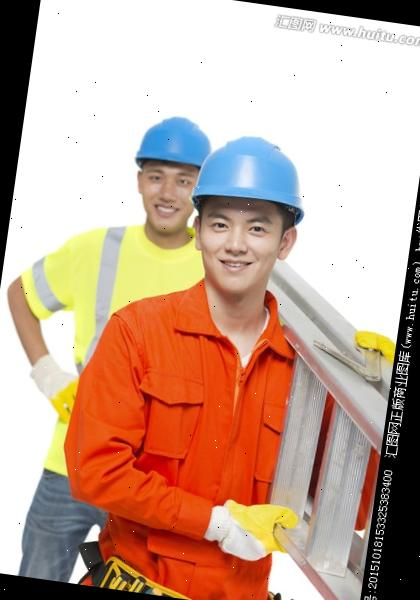helmet: (190, 131, 314, 224), (132, 110, 215, 176)
wear: (83, 279, 316, 566)
